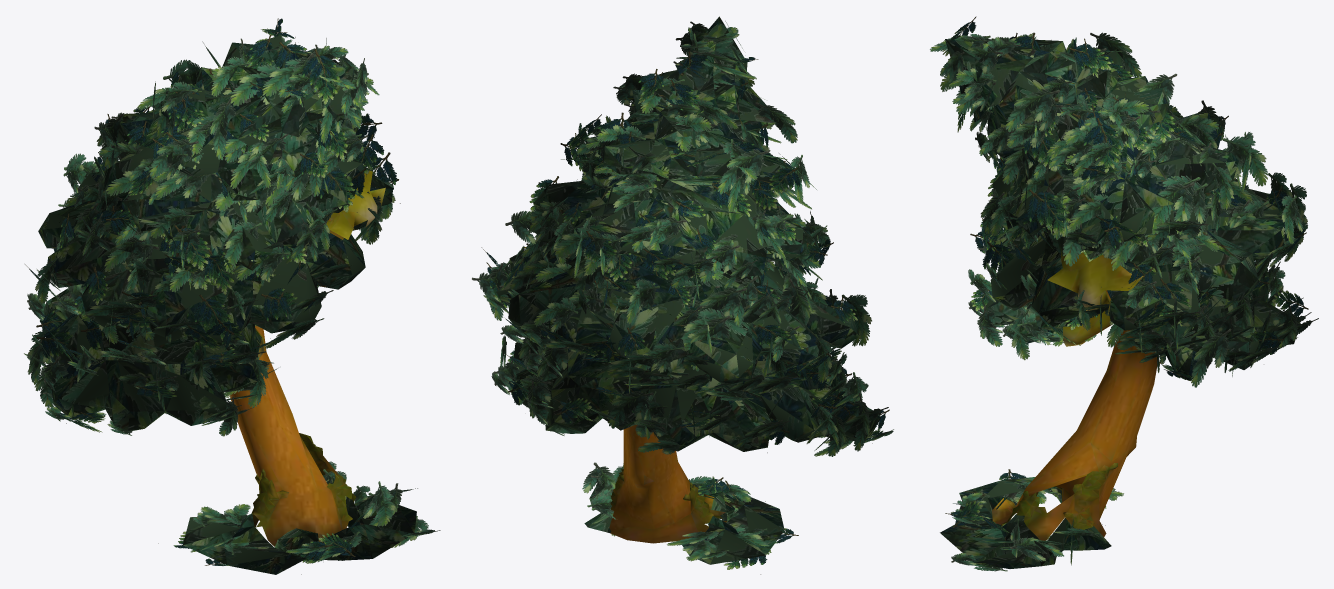
Rendered from pine_3.glb.
3 renders of one model, left to right at view 1: azimuth 30°, elevation 25°; view 2: azimuth 150°, elevation 25°; view 3: azimuth 270°, elevation 25°, orthographic. The views are drawn at different scales.
Visible parts, largest first — view 1: Fable_pine_3; view 2: Fable_pine_3; view 3: Fable_pine_3.
Boxes of the visible parts, box(x1,y1,x2,y2) form: Fable_pine_3: box(24, 18, 440, 574); Fable_pine_3: box(472, 16, 893, 574); Fable_pine_3: box(930, 16, 1318, 571).
Bounding box in the file's own units: 5.86 × 7.39 × 5.08.
2 materials, 2 textured.
